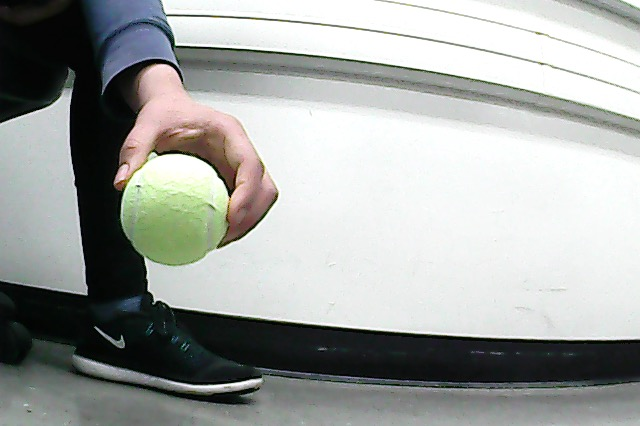ball: (122, 154, 231, 266)
